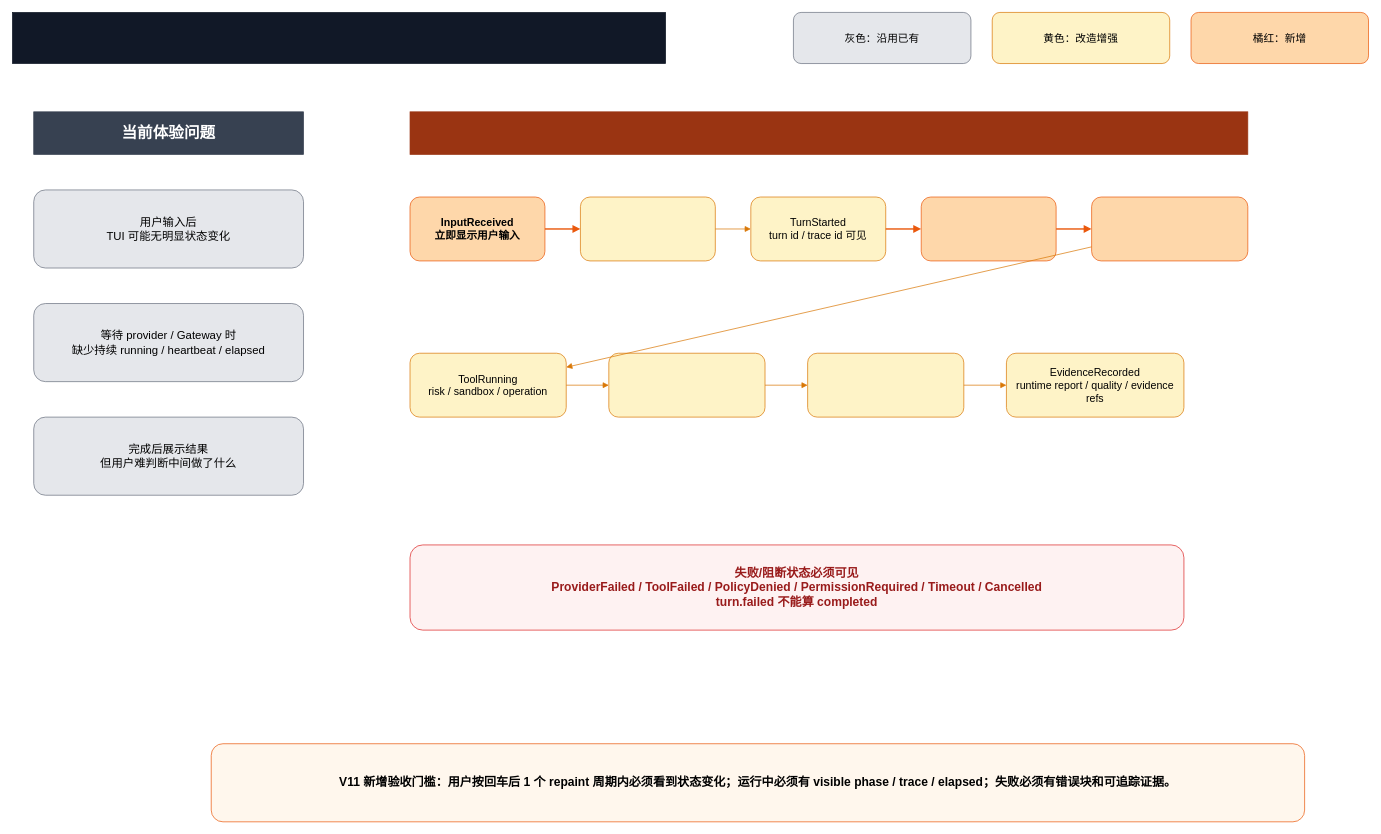
This 1381x834 diagram has some shape labels left out. Here are the shapes that lost their labels. From the top down, the box of each, then its label:
(12, 12, 666, 64): V11 关键变动：从静态报告式 TUI 到实时状态机 TUI
(409, 111, 1248, 154): V11 目标状态流
(580, 196, 715, 261): SessionReady Gateway session ref 可见
(921, 196, 1056, 261): AgentRunning 运行中状态持续可见
(1091, 196, 1248, 261): Streaming assistant/tool/station events 可见
(608, 353, 765, 417): AwaitingConfirmation confirm / revise / reject
(807, 353, 964, 417): RunningWorkflow station progress / attempt refs
